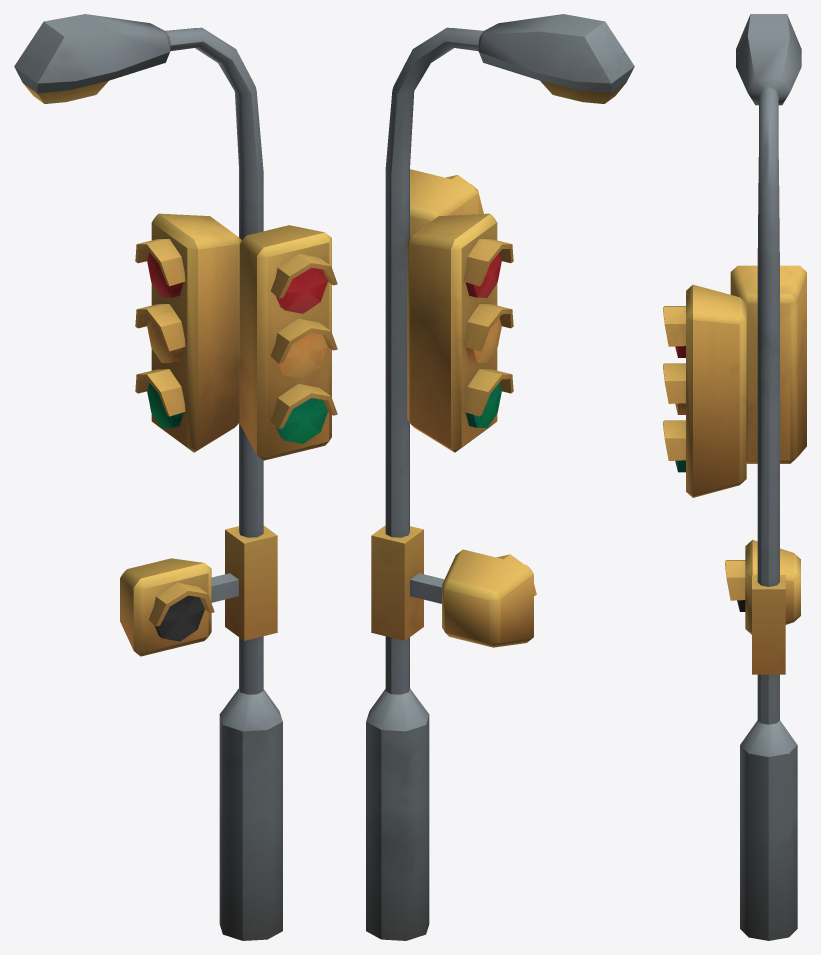
The model's file is trafficlight_B.glb.
3 views of the same model, side by side, from view 1: azimuth 30°, elevation 25°; view 2: azimuth 150°, elevation 25°; view 3: azimuth 270°, elevation 25° (orthographic). The views are drawn at different scales.
Parts seen in each view (by area): view 1: trafficlight_B; view 2: trafficlight_B; view 3: trafficlight_B.
Part boxes in pixels (x1,y1,x2,y2): trafficlight_B: (14, 14, 337, 940); trafficlight_B: (366, 14, 634, 940); trafficlight_B: (663, 14, 806, 940).
Size of the model in its own units: 0.2791 by 0.9599 by 0.1506.
Materials: 1 (1 with a texture image).
